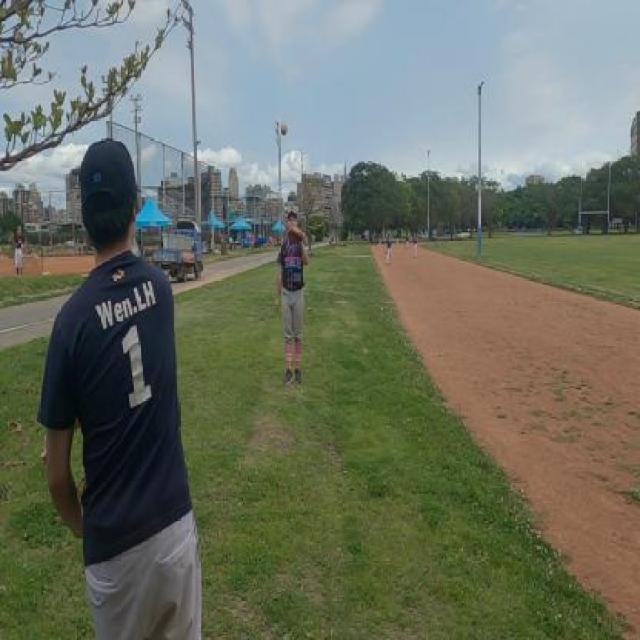baseball: (278, 120, 290, 138)
